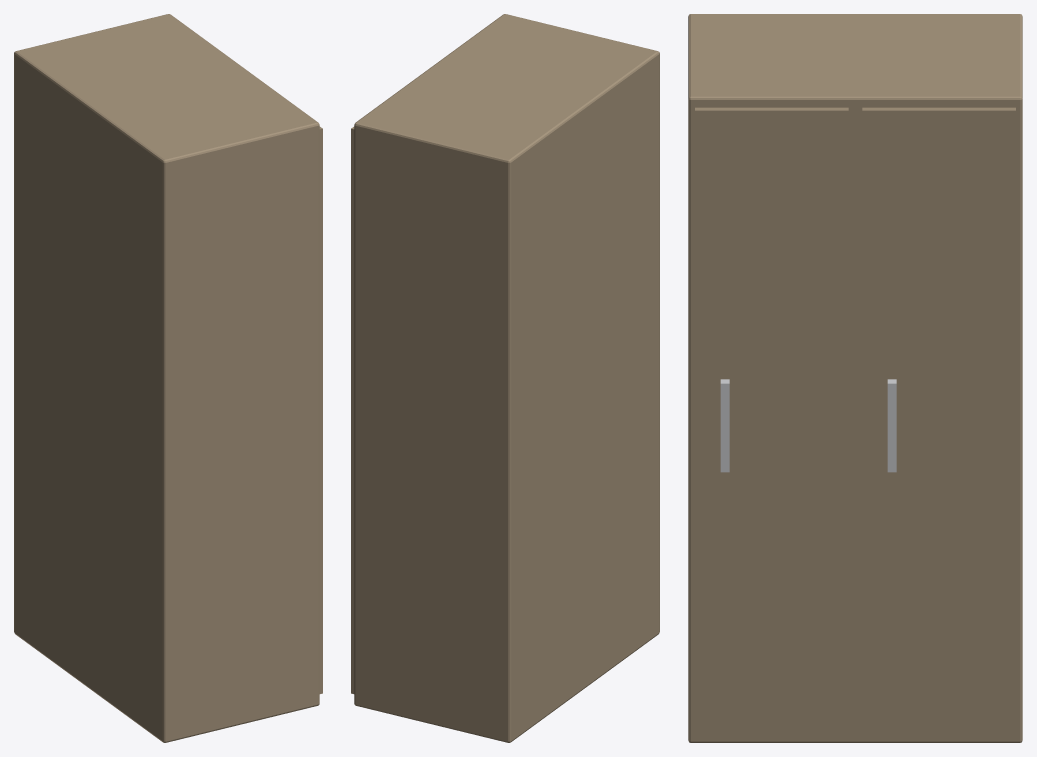
Rendered from conference_credenza.glb.
The picture shows the model from 3 angles, left to right: view 1: azimuth 30°, elevation 25°; view 2: azimuth 150°, elevation 25°; view 3: azimuth 270°, elevation 25°; orthographic projection. The views are drawn at different scales.
Parts seen in each view (by area): view 1: credenza_body, credenza_face1; view 2: credenza_body, credenza_face0; view 3: credenza_face0, credenza_face1, credenza_body, credenza_pull0, credenza_pull1.
Part boxes in pixels (x1=…): credenza_body: x1=14, y1=14, x2=319, y2=742; credenza_face1: x1=319, y1=126, x2=322, y2=693; credenza_body: x1=354, y1=14, x2=659, y2=742; credenza_face0: x1=351, y1=126, x2=354, y2=693; credenza_face0: x1=862, y1=107, x2=1015, y2=736; credenza_face1: x1=695, y1=107, x2=848, y2=736; credenza_body: x1=688, y1=14, x2=1022, y2=742; credenza_pull0: x1=887, y1=379, x2=896, y2=472; credenza_pull1: x1=720, y1=379, x2=729, y2=472.
Bounding box in the file's own units: 0.4875 × 1.6 × 0.75.
